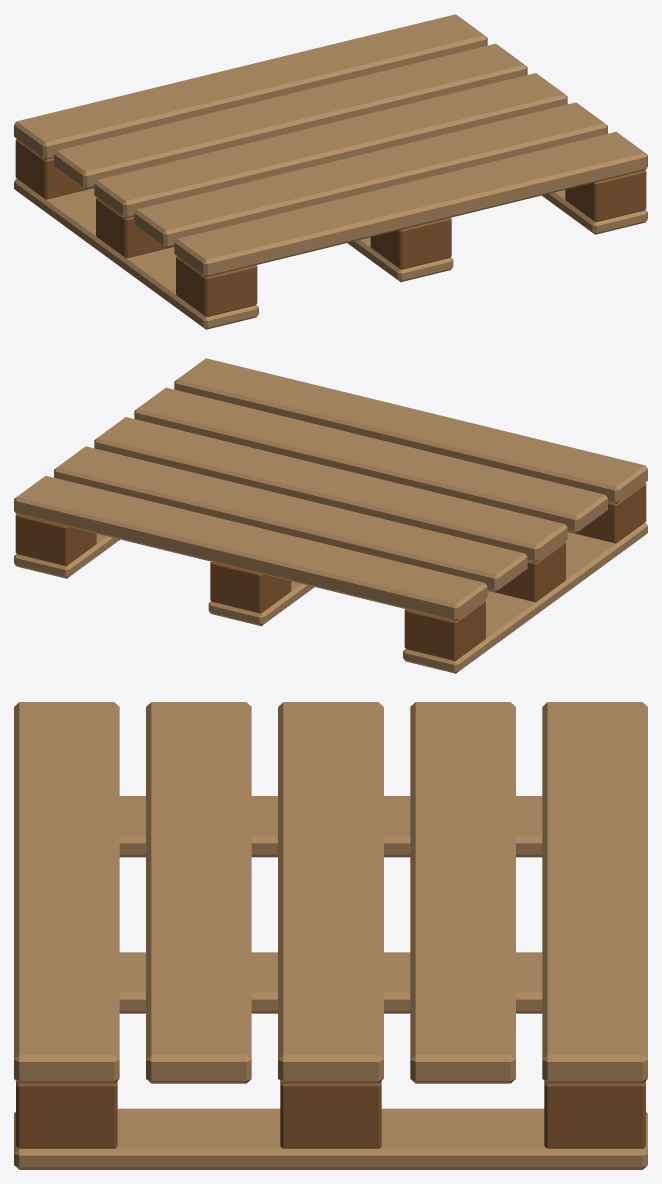
File: pallet.glb
3 renders of one model, top to bottom at view 1: azimuth 30°, elevation 25°; view 2: azimuth 150°, elevation 25°; view 3: azimuth 270°, elevation 25°, orthographic. The views are drawn at different scales.
Parts seen in each view (by area): view 1: pallet_cuerpo; view 2: pallet_cuerpo; view 3: pallet_cuerpo.
Part boxes in pixels (x1,y1,x2,y2): pallet_cuerpo: (14, 14, 647, 329); pallet_cuerpo: (14, 358, 647, 673); pallet_cuerpo: (14, 702, 647, 1169).
Size of what is drawn, in the model's own units: 0.8 by 0.12 by 0.6.
